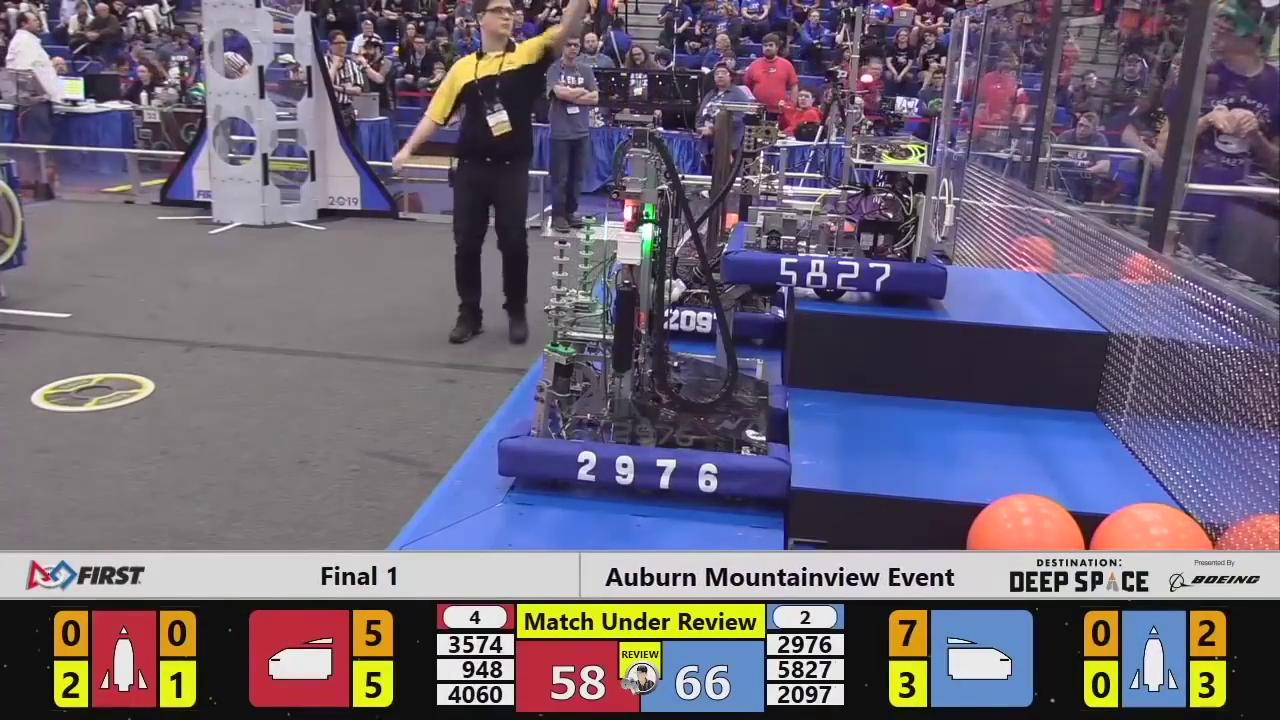robot: (497, 140, 792, 510), (723, 7, 949, 307), (605, 175, 786, 349)
